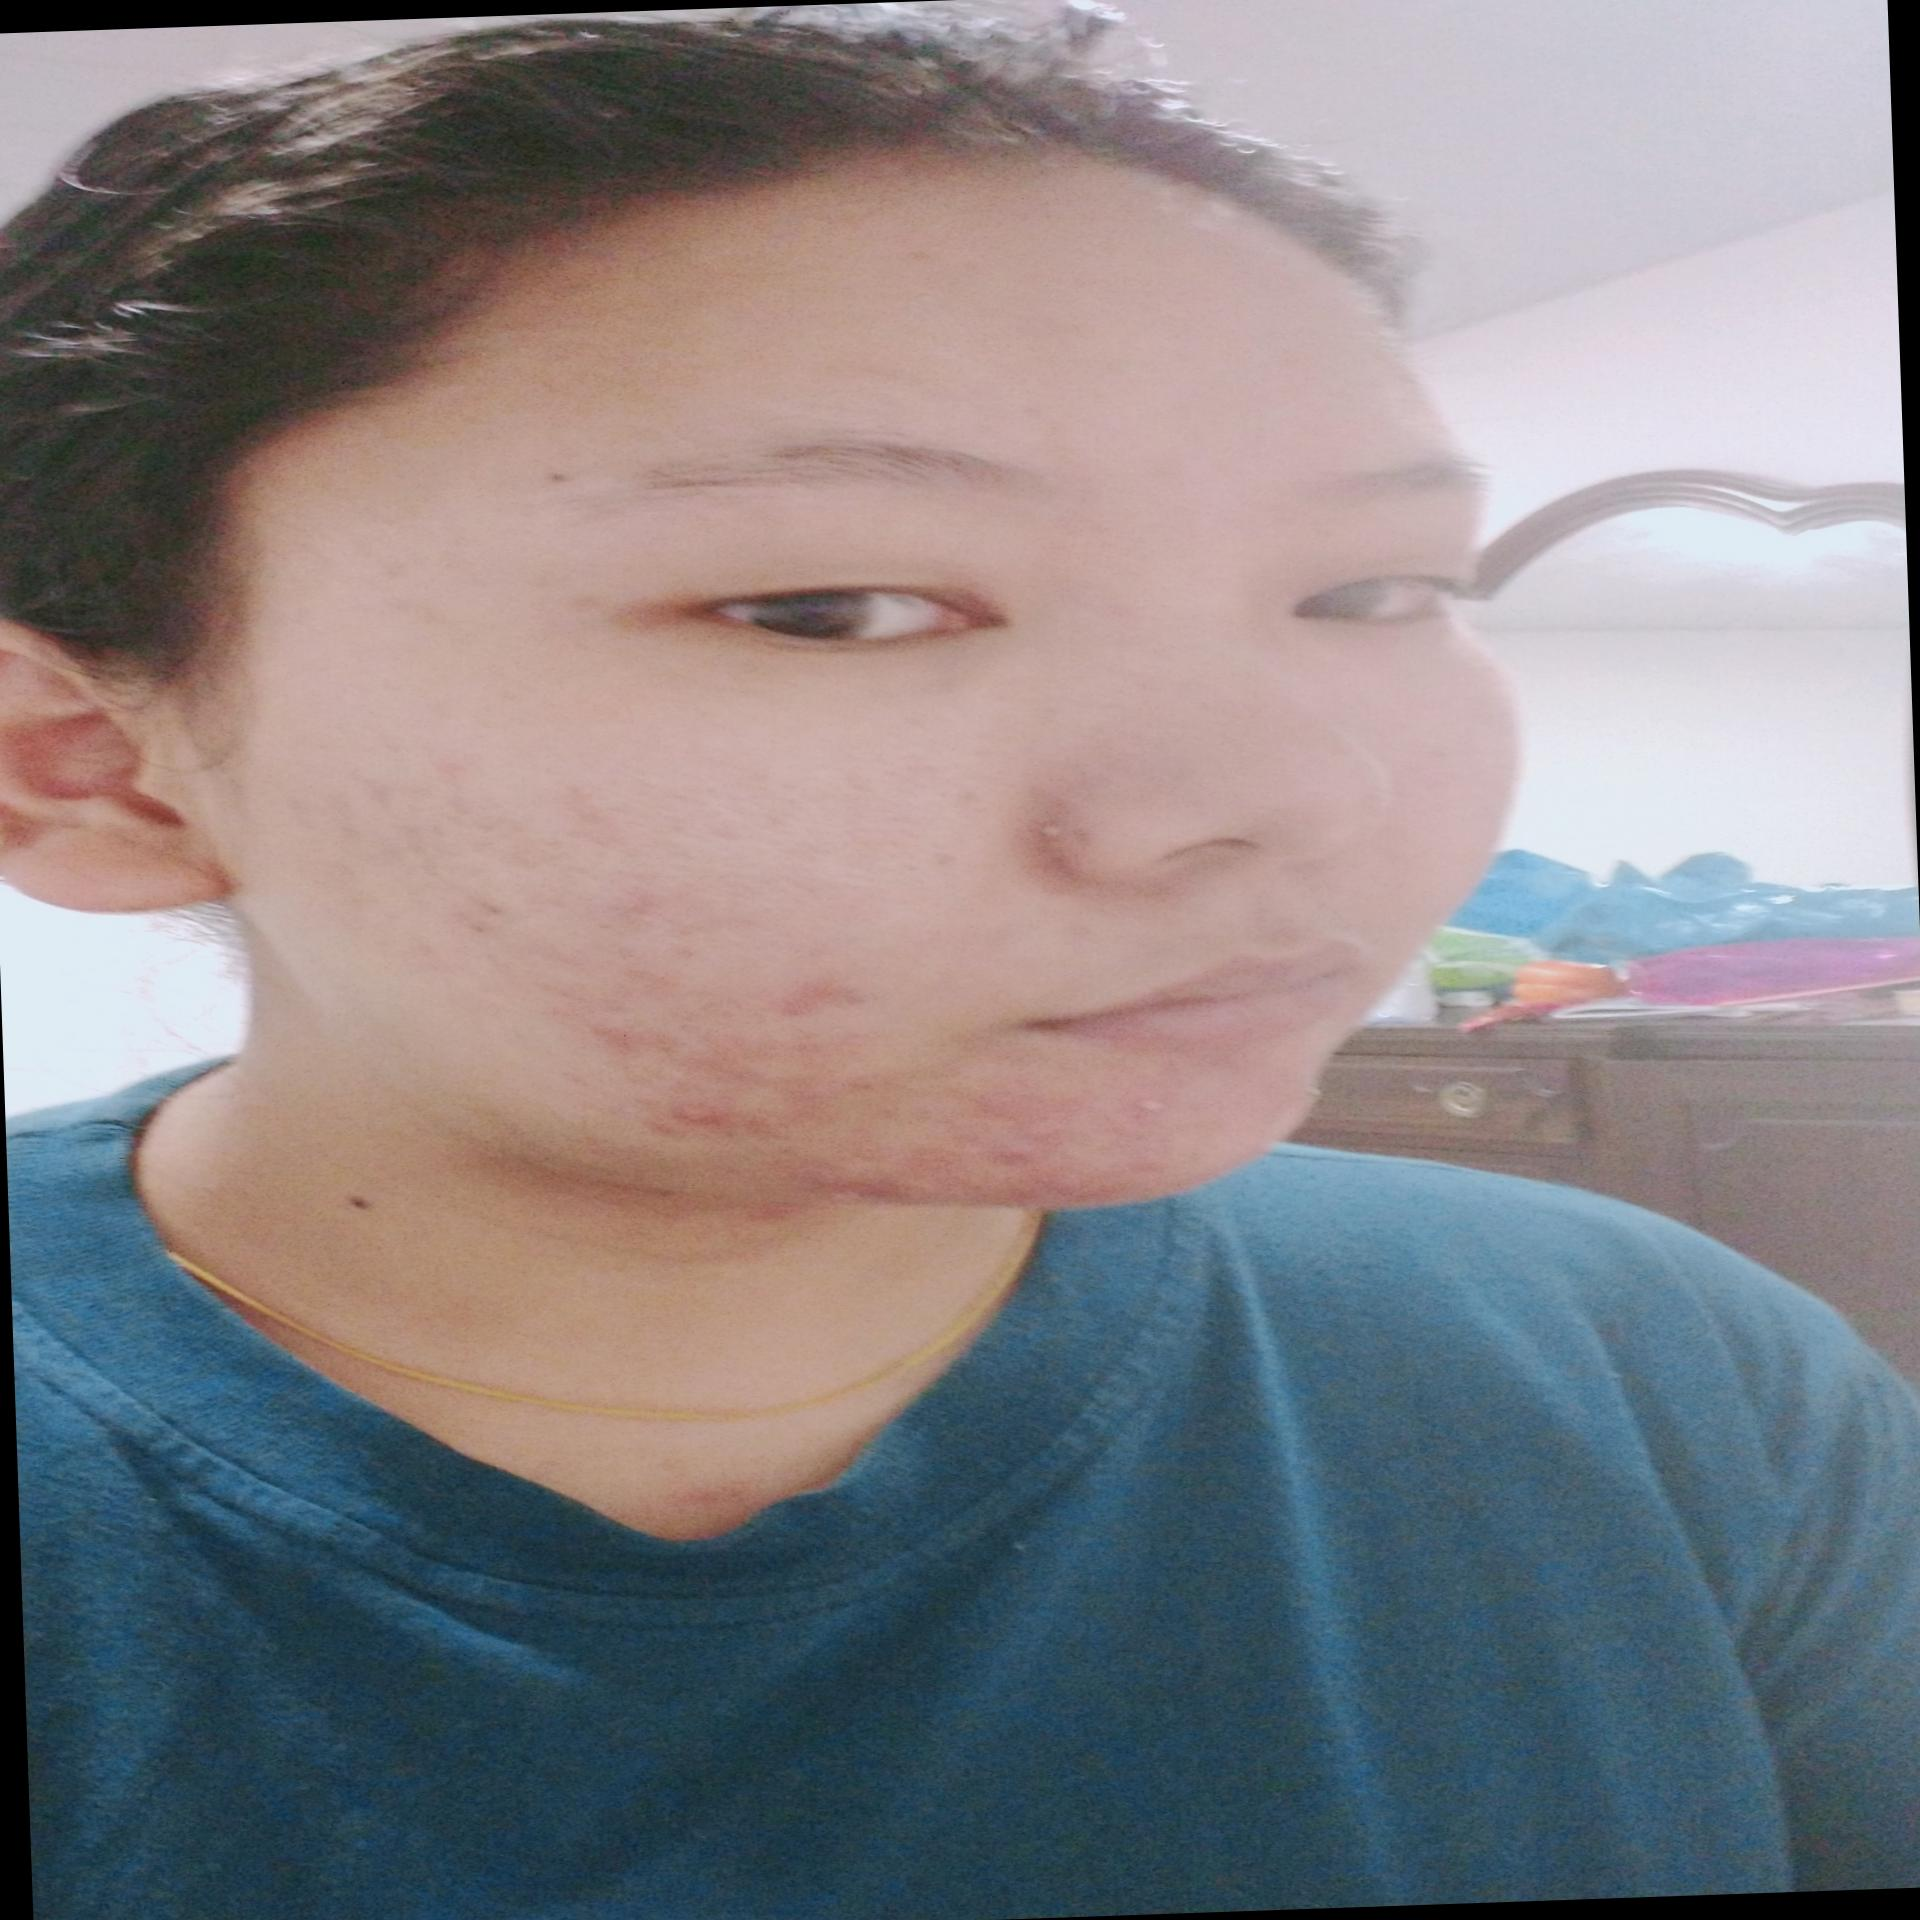Acne: (1007, 1153, 1178, 1206), (642, 1088, 774, 1145), (784, 1152, 925, 1201), (756, 962, 895, 1011), (726, 1085, 828, 1139), (964, 1087, 1085, 1131), (433, 890, 513, 949), (577, 1015, 686, 1055), (1011, 807, 1111, 851), (367, 589, 466, 631), (733, 1189, 804, 1224), (418, 747, 487, 781), (835, 1065, 886, 1104), (338, 767, 397, 798), (1122, 1085, 1173, 1115), (985, 1141, 1027, 1171), (902, 239, 934, 271), (1157, 1053, 1180, 1073)
Englarged Pores: (549, 758, 965, 911)
